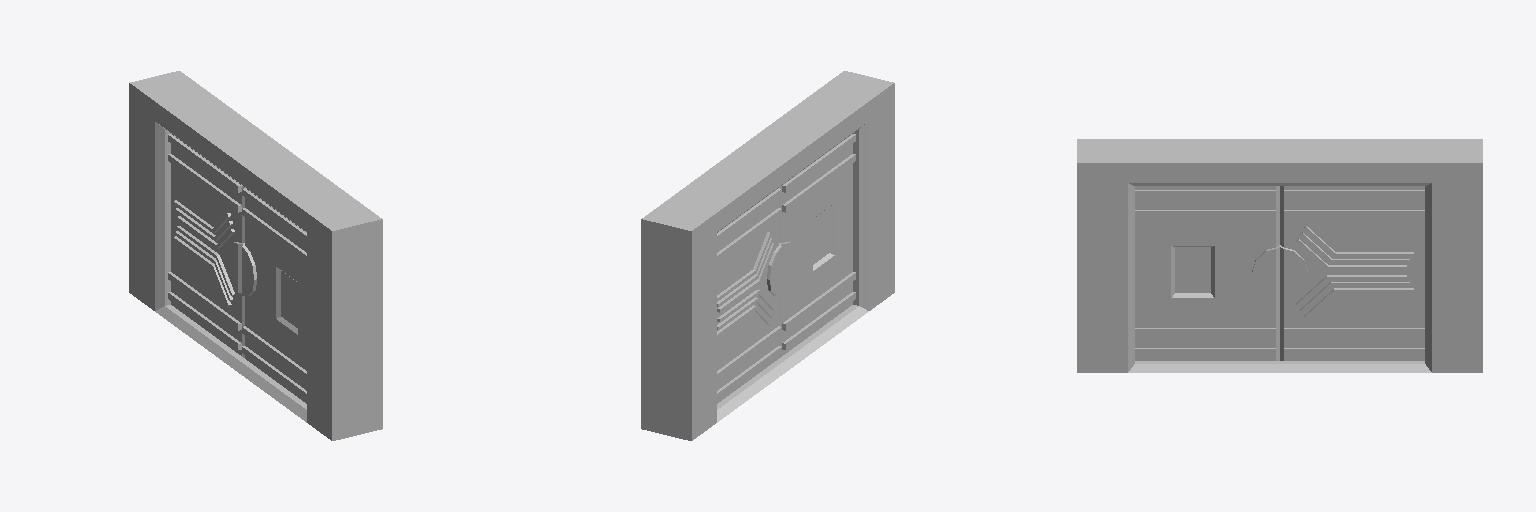
File: sliding_blast_door.obj
3 views of the same model, side by side, from view 1: azimuth 30°, elevation 25°; view 2: azimuth 150°, elevation 25°; view 3: azimuth 270°, elevation 25° (orthographic).
Visible parts, largest first — view 1: Frame, RightDoor, LeftDoor, RightLock, LeftLock; view 2: Frame, LeftDoor, RightDoor, LeftLock, RightLock; view 3: Frame, LeftDoor, RightDoor, RightLock, LeftLock.
Part boxes in pixels (x1,y1,x2,y2): Frame: (129,71,382,440); RightDoor: (168,134,244,357); LeftDoor: (242,188,306,403); RightLock: (226,242,243,293); LeftLock: (242,243,256,296); Frame: (641,71,894,440); LeftDoor: (779,134,855,357); RightDoor: (717,188,781,403); LeftLock: (780,242,797,293); RightLock: (767,243,781,296); Frame: (1077,139,1482,372); LeftDoor: (1135,186,1279,360); RightDoor: (1280,186,1424,360); RightLock: (1280,245,1307,297); LeftLock: (1252,245,1279,297).
Size of the model in its own units: 1 by 4 by 7.